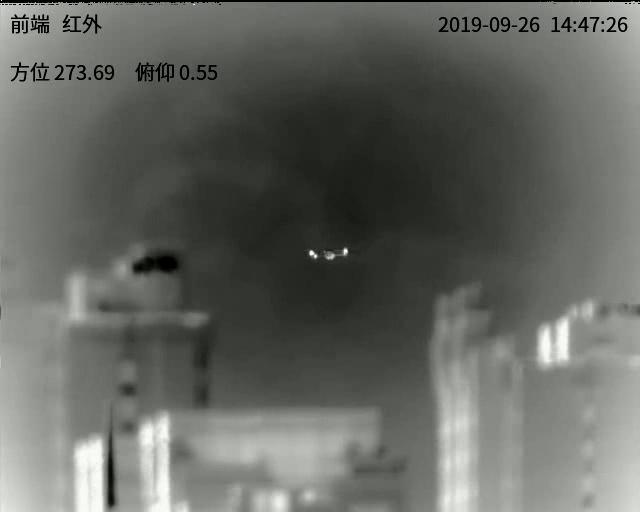DRONE: (307, 245, 350, 263)
